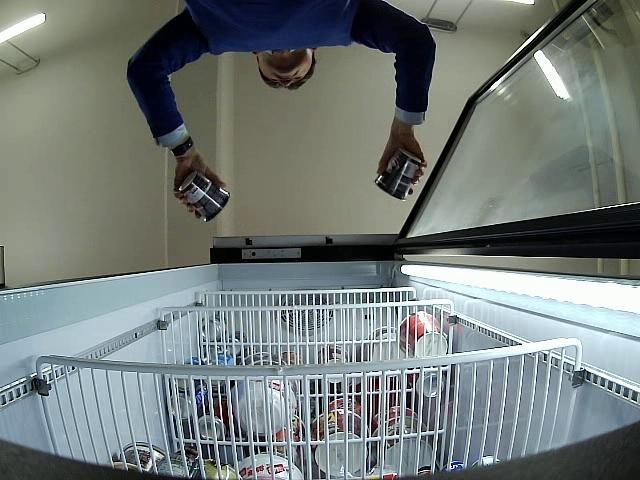08_buldak_S: (178, 171, 229, 223), (374, 147, 422, 200)
